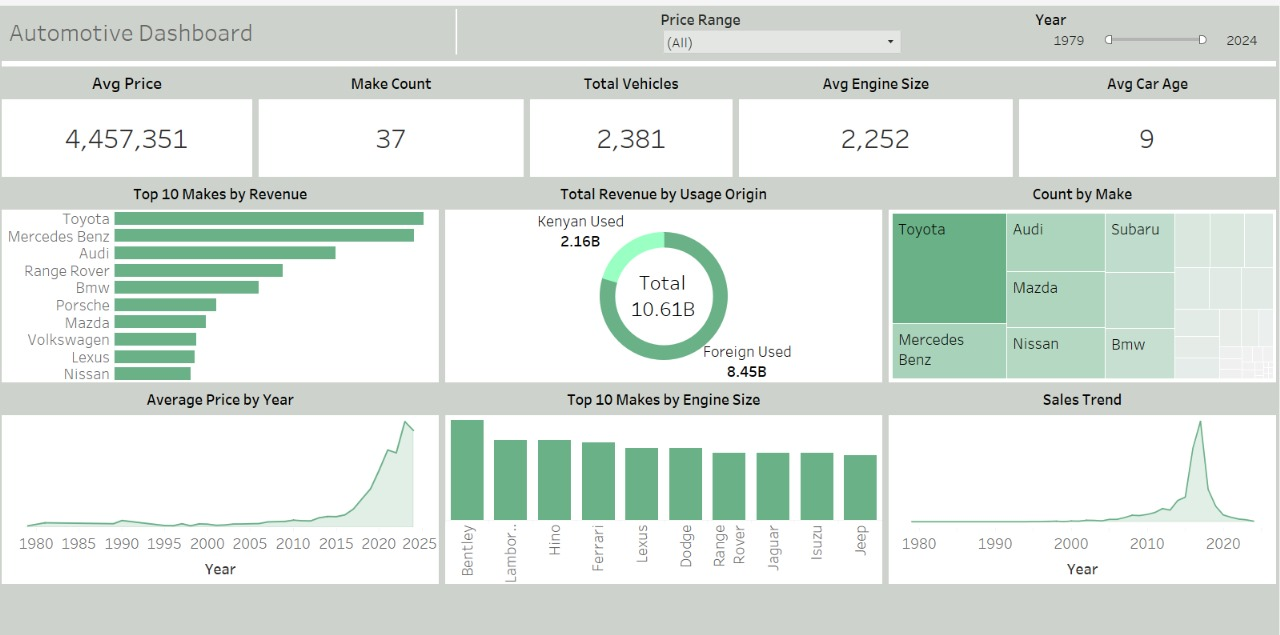

This screenshot's page, from the dashboard's own definition file:
{"tool":"tableau","page":{"name":"Dashboard","canvas":[1600,800],"ordinal":0},"visuals":[{"type":"text","box":[0,0,567.5,65]},{"type":"blank","box":[567.5,0,10,65]},{"type":"filter","title":"Top 10 Makes by Revenue","param":"[federated.19sfm5003uep7b13yt24r1xoxb0n].[none:Price_Range:nk]","box":[577.5,0,567.5,65]},{"type":"filter","title":"Top 10 Makes by Revenue","param":"[federated.19sfm5003uep7b13yt24r1xoxb0n].[none:Year:qk]","box":[1145,0,455,65]},{"type":"blank","box":[0,65,1600,15]},{"type":"text","box":[0,80,321,33]},{"type":"text","box":[321,80,339,33]},{"type":"text","box":[660,80,261,33]},{"type":"text","box":[921,80,350,33]},{"type":"text","box":[1271,80,329,33]},{"type":"worksheet","title":"Avg Price","mark":"Automatic","box":[0,113,321,105]},{"type":"worksheet","title":"Makes Count","mark":"Automatic","box":[321,113,339,105]},{"type":"worksheet","title":"Total Vehicles","mark":"Automatic","box":[660,113,261,105]},{"type":"worksheet","title":"Avg Engine Size","mark":"Automatic","box":[921,113,350,105]},{"type":"worksheet","title":"Avg Car Age","mark":"Automatic","box":[1271,113,329,105]},{"type":"text","box":[0,218,554,33]},{"type":"text","box":[554,218,554,33]},{"type":"text","box":[1108,218,492,33]},{"type":"worksheet","title":"Top 10 Makes by Revenue","mark":"Automatic","rows":["Make"],"cols":["Price"],"box":[0,251,554,224]},{"type":"worksheet","title":"Total Revenue by Usage Origin","mark":"Pie","cols":["Calculation_783907814217064450","Calculation_783907814217064450"],"box":[554,251,554,224]},{"type":"worksheet","title":"Count by Make","mark":"Automatic","box":[1108,251,492,224]},{"type":"text","box":[0,475,554,33]},{"type":"text","box":[554,475,554,33]},{"type":"text","box":[1108,475,492,33]},{"type":"worksheet","title":"Average Price by year","mark":"Automatic","rows":["Price"],"cols":["Year","Year"],"box":[0,508,554,215]},{"type":"worksheet","title":"Top 10 Makes by Avg Engine Size","mark":"Automatic","rows":["Engine_Size"],"cols":["Make"],"box":[554,508,554,215]},{"type":"worksheet","title":"Sales Trend","mark":"Automatic","rows":["Name"],"cols":["Year","Year"],"box":[1108,508,492,215]}]}

Visuals, with their boxes in screenshot pixels (x1, y1, x2, y2), scaled from the page's 1600x800 canvas onto the 1280x635 screenshot:
text: region(0, 0, 454, 52)
blank: region(454, 0, 462, 52)
"Top 10 Makes by Revenue" filter: region(462, 0, 916, 52)
"Top 10 Makes by Revenue" filter: region(916, 0, 1279, 52)
blank: region(0, 52, 1279, 64)
text: region(0, 64, 257, 90)
text: region(257, 64, 528, 90)
text: region(528, 64, 737, 90)
text: region(737, 64, 1017, 90)
text: region(1017, 64, 1279, 90)
"Avg Price" worksheet: region(0, 90, 257, 173)
"Makes Count" worksheet: region(257, 90, 528, 173)
"Total Vehicles" worksheet: region(528, 90, 737, 173)
"Avg Engine Size" worksheet: region(737, 90, 1017, 173)
"Avg Car Age" worksheet: region(1017, 90, 1279, 173)
text: region(0, 173, 443, 199)
text: region(443, 173, 886, 199)
text: region(886, 173, 1279, 199)
"Top 10 Makes by Revenue" worksheet: region(0, 199, 443, 377)
"Total Revenue by Usage Origin" worksheet (Pie marks): region(443, 199, 886, 377)
"Count by Make" worksheet: region(886, 199, 1279, 377)
text: region(0, 377, 443, 403)
text: region(443, 377, 886, 403)
text: region(886, 377, 1279, 403)
"Average Price by year" worksheet: region(0, 403, 443, 574)
"Top 10 Makes by Avg Engine Size" worksheet: region(443, 403, 886, 574)
"Sales Trend" worksheet: region(886, 403, 1279, 574)
